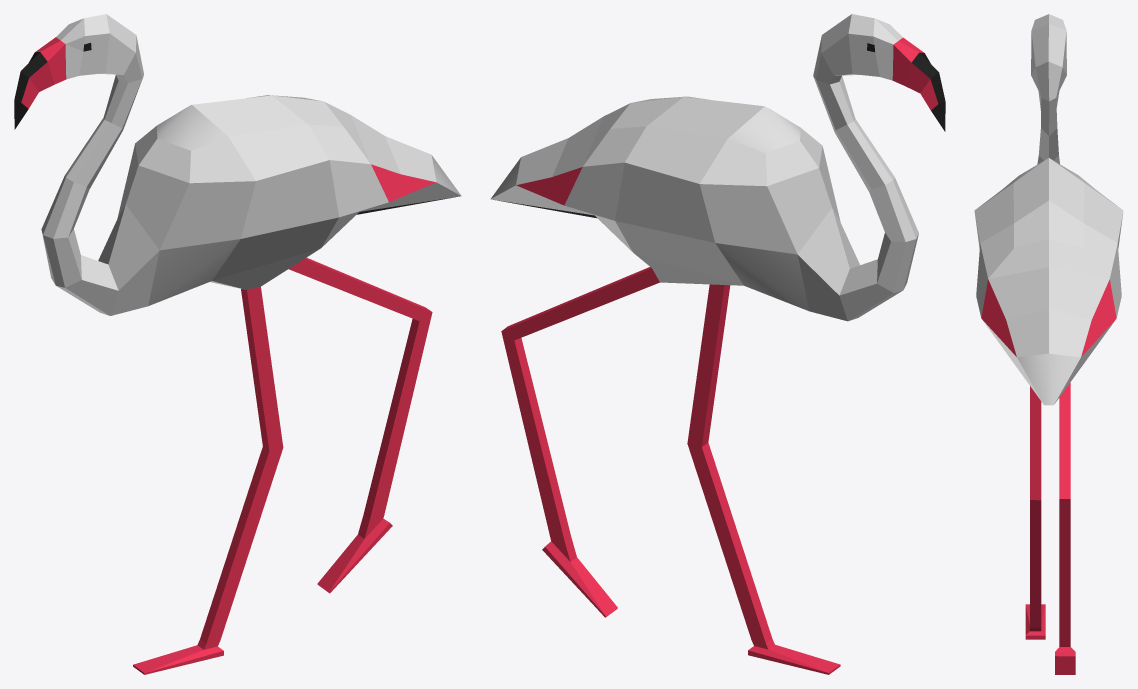
Rendered from Flamingo.obj.
3 views of the same model, side by side, from view 1: azimuth 30°, elevation 25°; view 2: azimuth 150°, elevation 25°; view 3: azimuth 270°, elevation 25° (orthographic). The views are drawn at different scales.
Parts seen in each view (by area): view 1: Box001; view 2: Box001; view 3: Box001.
Boxes of the visible parts, left/top/right/bottom form: Box001: left=14, top=14, right=461, bottom=674; Box001: left=490, top=14, right=945, bottom=674; Box001: left=974, top=14, right=1123, bottom=674.
Size of the model in its own units: 171 by 241 by 56.95.
